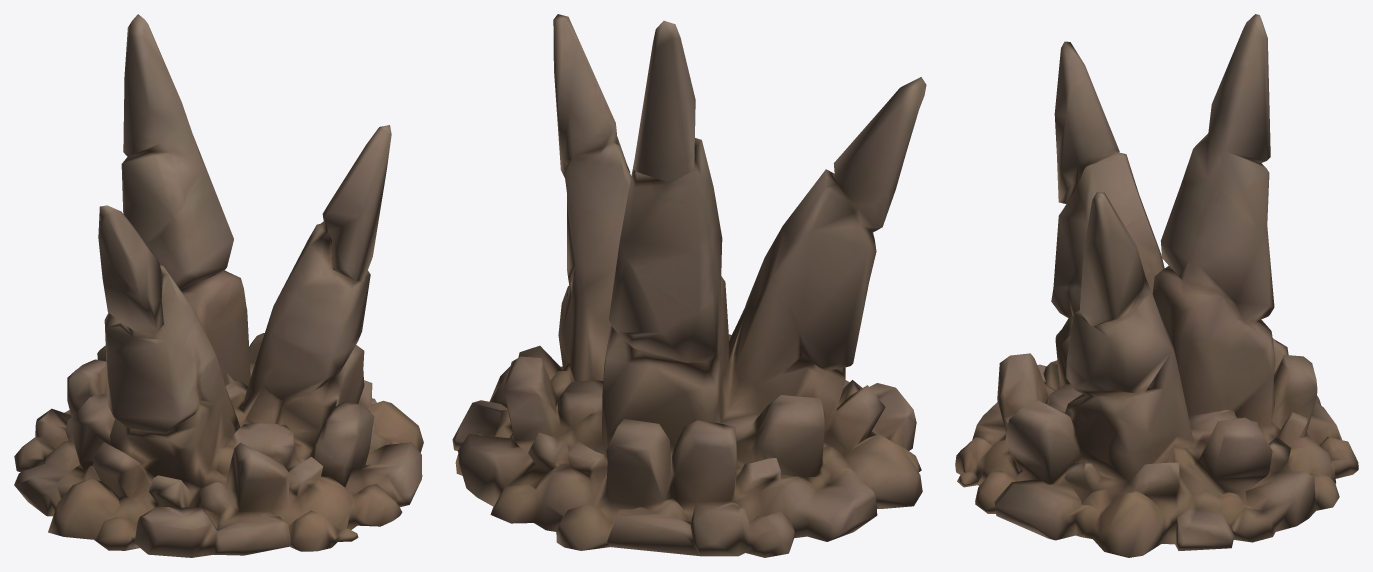
The model's file is skill_stonespike_small-pag0bs_e.glb.
3 renders of one model, left to right at view 1: azimuth 30°, elevation 25°; view 2: azimuth 150°, elevation 25°; view 3: azimuth 270°, elevation 25°, orthographic. The views are drawn at different scales.
Visible parts, largest first — view 1: tripo_node_914053e7-29e9-41f6-a443-8382e39e225e; view 2: tripo_node_914053e7-29e9-41f6-a443-8382e39e225e; view 3: tripo_node_914053e7-29e9-41f6-a443-8382e39e225e.
Part boxes in pixels (bbox=[...]): tripo_node_914053e7-29e9-41f6-a443-8382e39e225e: bbox=[14, 14, 423, 557]; tripo_node_914053e7-29e9-41f6-a443-8382e39e225e: bbox=[452, 14, 926, 557]; tripo_node_914053e7-29e9-41f6-a443-8382e39e225e: bbox=[955, 14, 1358, 557].
Bounding box in the file's own units: 0.8964 × 1 × 0.8375.
Materials: 1 (1 with a texture image).
